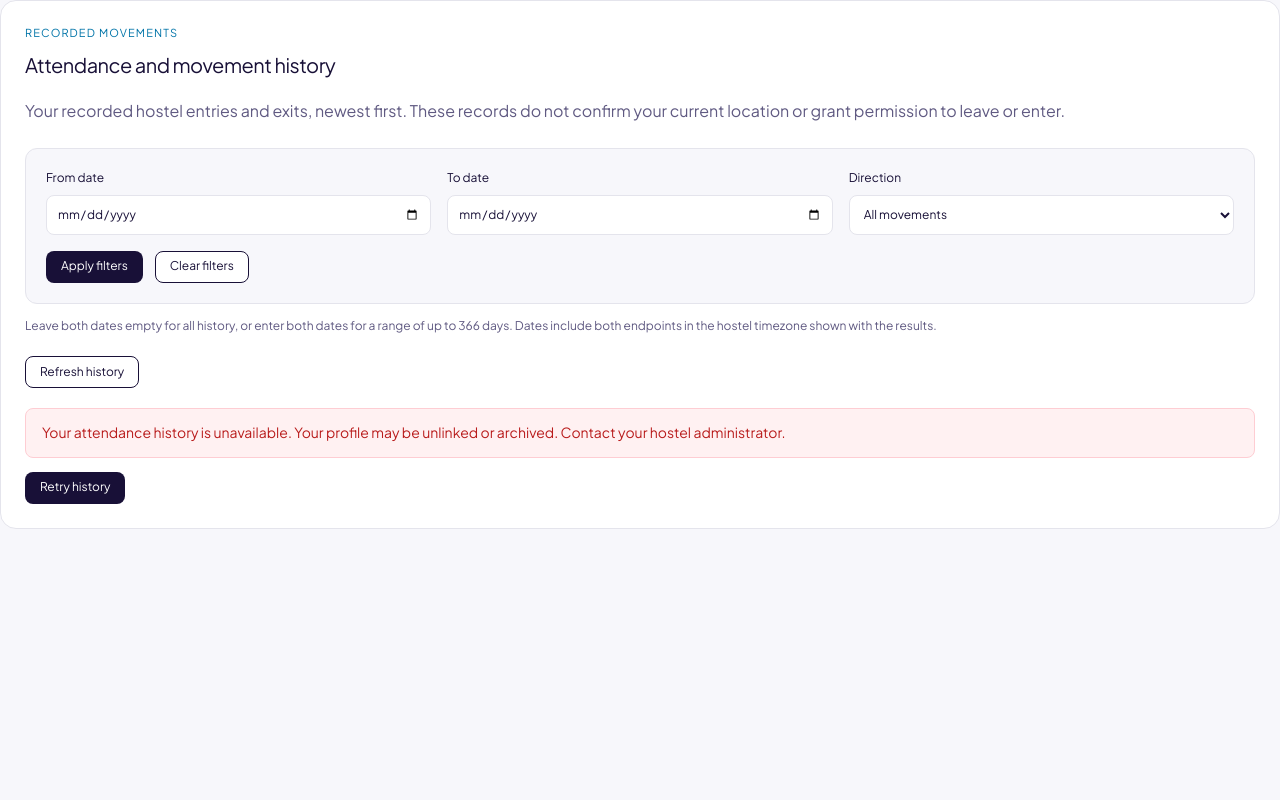
handles archived/missing profiles with clear guidance and retry
Expected: the message shows "unlinked or archived", [42,423,786,441]
What coordinates should you click on to do the following:
click the button "Retry history"
I would click on:
 (75, 488)
Its box is [25,472,125,504].
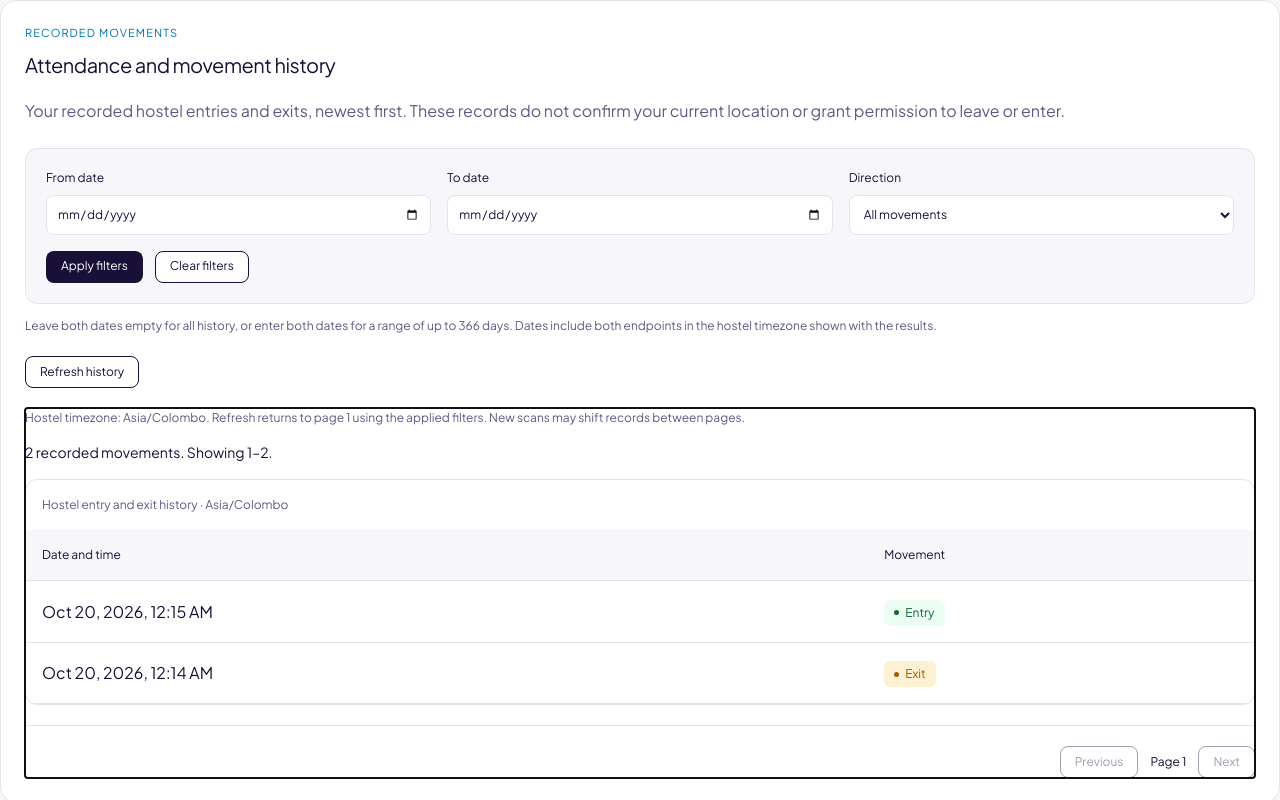
Expected: the table is shown, [26,480,1254,704]
